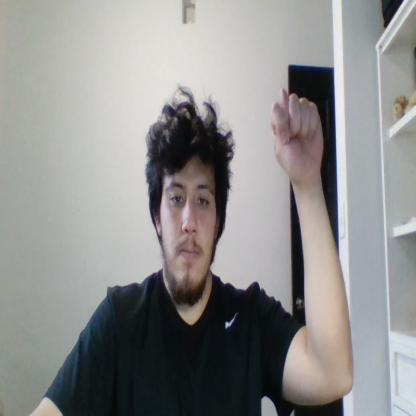T: (272, 88, 325, 178)
